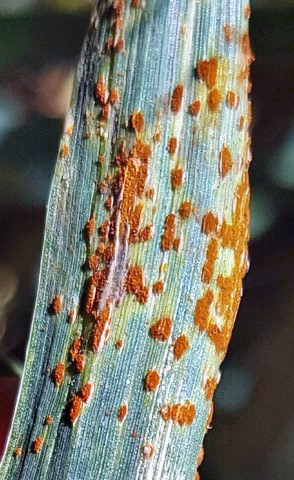Leaf Rust: (31, 65, 256, 431)
